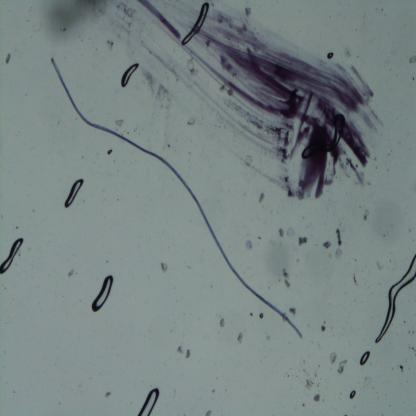Air bubble: (374, 255, 416, 346), (182, 2, 210, 46), (0, 236, 26, 276), (90, 274, 116, 314), (63, 177, 85, 211), (138, 387, 162, 415), (120, 60, 140, 90), (358, 346, 372, 366), (326, 50, 334, 61), (349, 390, 356, 402)
Background material: (42, 0, 112, 54), (302, 369, 325, 392), (64, 262, 76, 280), (337, 356, 348, 374), (328, 349, 338, 367), (334, 226, 342, 247), (159, 261, 169, 275), (362, 208, 372, 222), (407, 52, 416, 67), (298, 235, 309, 247), (114, 116, 125, 128), (244, 238, 254, 251), (257, 191, 267, 204), (282, 267, 292, 280), (287, 226, 296, 240), (352, 268, 358, 289), (333, 248, 343, 260), (312, 392, 322, 404), (184, 346, 192, 361), (287, 306, 298, 316), (102, 389, 112, 400), (5, 52, 12, 66), (398, 361, 406, 373), (176, 344, 185, 354), (324, 239, 332, 250), (237, 331, 244, 343), (218, 318, 226, 328), (106, 146, 114, 156), (284, 280, 292, 289), (319, 324, 327, 332), (188, 118, 195, 127), (278, 229, 284, 238), (258, 312, 264, 320)
Microfibre: (50, 56, 304, 341)
Pen: (183, 1, 381, 192)
